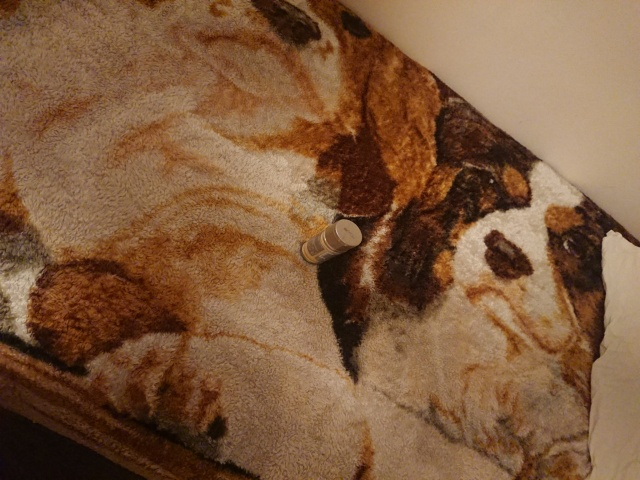Kotanyi Garlic Granules 70g: (298, 216, 364, 267)
